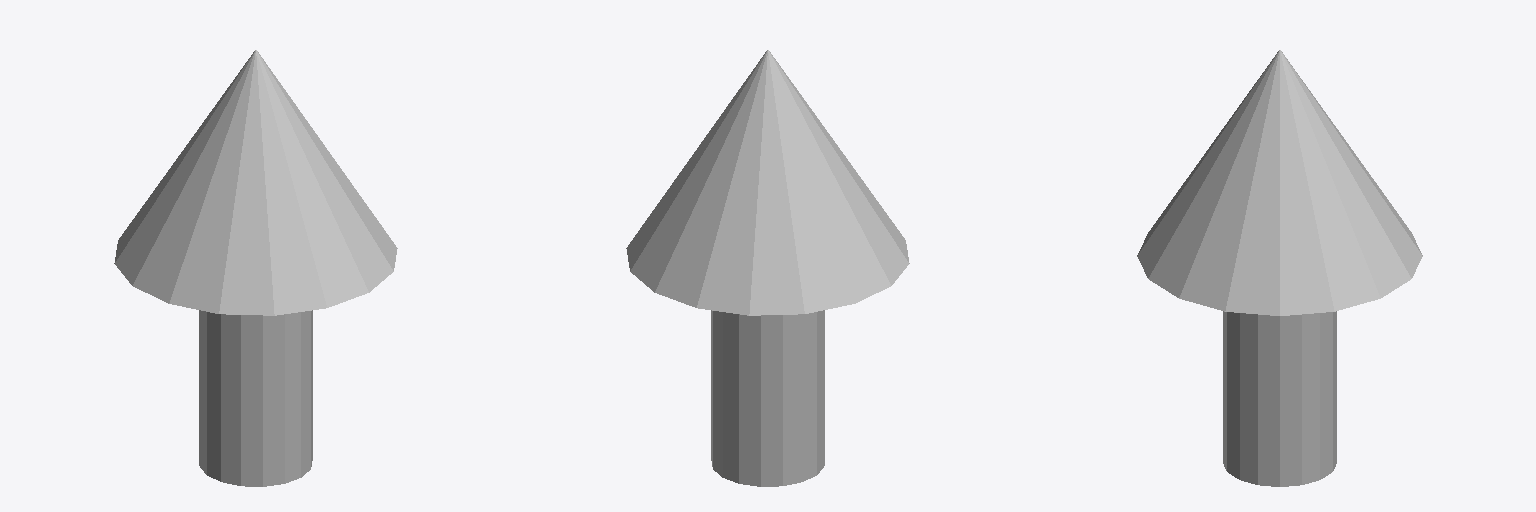
File: Direction.obj
3 renders of one model, left to right at view 1: azimuth 30°, elevation 25°; view 2: azimuth 150°, elevation 25°; view 3: azimuth 270°, elevation 25°, orthographic.
Visible parts, largest first — view 1: Direction_Indicator; view 2: Direction_Indicator; view 3: Direction_Indicator.
Boxes of the visible parts, x1=… form: Direction_Indicator: x1=114, y1=50, x2=397, y2=486; Direction_Indicator: x1=626, y1=50, x2=909, y2=486; Direction_Indicator: x1=1137, y1=50, x2=1422, y2=486.
Bounding box in the file's own units: 0.05 × 0.08 × 0.05.